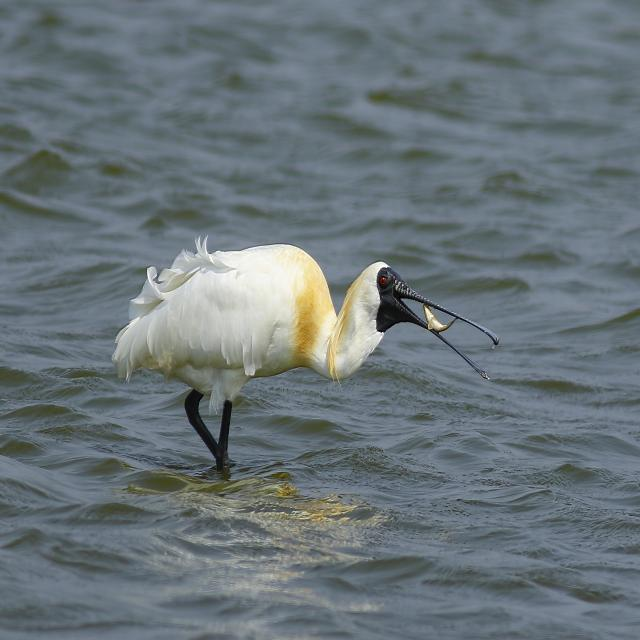Black-faced spoonbill: (113, 240, 498, 468)
